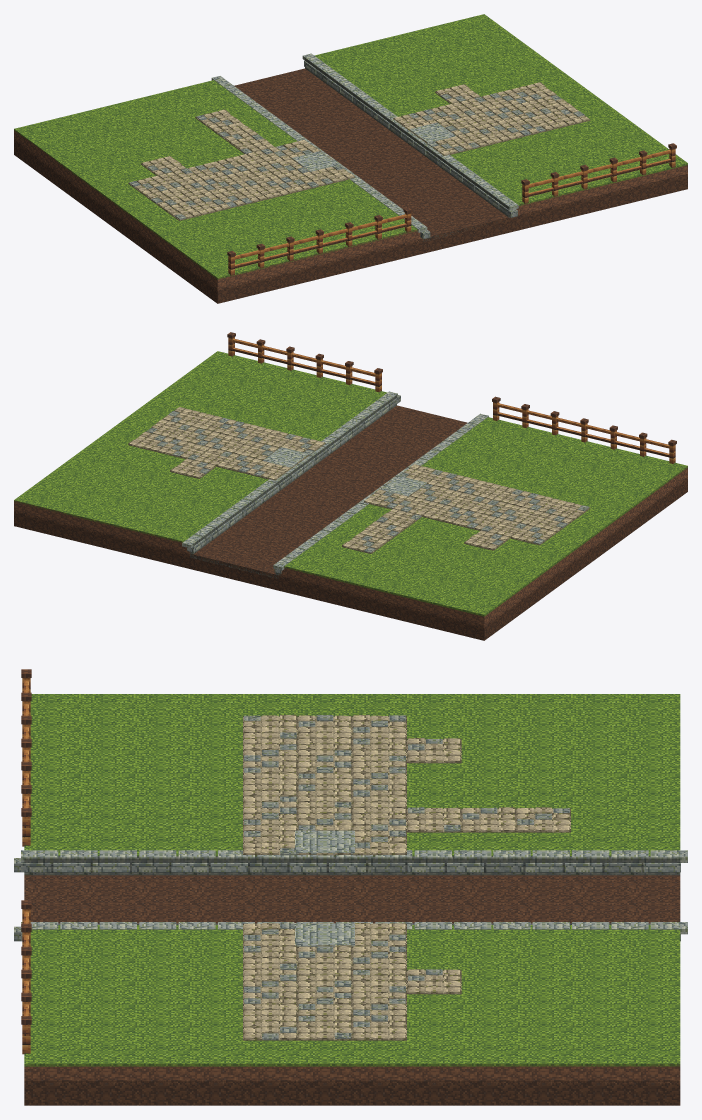
3 renders of one model, top to bottom at view 1: azimuth 30°, elevation 25°; view 2: azimuth 150°, elevation 25°; view 3: azimuth 270°, elevation 25°, orthographic. The views are drawn at different scales.
Parts seen in each view (by area): view 1: grass_geometry, soil_dark_geometry, path_geometry, soil_geometry, stone_light_geometry, stone_geometry, path_light_geometry, oak_geometry, path_dark_geometry, stone_dark_geometry, wood_dark_geometry; view 2: grass_geometry, soil_dark_geometry, path_geometry, soil_geometry, stone_light_geometry, stone_geometry, path_light_geometry, oak_geometry, path_dark_geometry, stone_dark_geometry, wood_dark_geometry; view 3: grass_geometry, soil_dark_geometry, path_geometry, stone_light_geometry, stone_geometry, soil_geometry, path_light_geometry, stone_dark_geometry, path_dark_geometry, oak_geometry, wood_dark_geometry.
Part boxes in pixels (box(x1,y1,x2,y2)): grass_geometry: box(14, 14, 687, 279); soil_dark_geometry: box(14, 68, 687, 303); path_geometry: box(135, 82, 589, 218); soil_geometry: box(14, 130, 687, 290); stone_light_geometry: box(211, 53, 518, 232); stone_geometry: box(129, 69, 584, 239); path_light_geometry: box(140, 84, 583, 214); oak_geometry: box(228, 148, 675, 275); path_dark_geometry: box(128, 84, 590, 220); stone_dark_geometry: box(305, 58, 509, 241); wood_dark_geometry: box(227, 143, 676, 256); grass_geometry: box(14, 351, 687, 616); soil_dark_geometry: box(14, 405, 687, 640); path_geometry: box(128, 407, 584, 551); soil_geometry: box(14, 466, 687, 627); stone_light_geometry: box(182, 391, 488, 573); stone_geometry: box(146, 395, 589, 552); path_light_geometry: box(135, 408, 571, 547); oak_geometry: box(228, 337, 675, 463); path_dark_geometry: box(128, 411, 590, 553); stone_dark_geometry: box(189, 395, 396, 578); wood_dark_geometry: box(227, 332, 676, 445); grass_geometry: box(24, 694, 680, 1066); soil_dark_geometry: box(24, 875, 680, 1105); path_geometry: box(244, 714, 570, 1040); stone_light_geometry: box(21, 830, 687, 946); stone_geometry: box(14, 715, 641, 1040); soil_geometry: box(24, 1064, 680, 1084); path_light_geometry: box(244, 715, 569, 1040); stone_dark_geometry: box(24, 856, 680, 924); path_dark_geometry: box(243, 716, 570, 1040); oak_geometry: box(22, 678, 30, 1054); wood_dark_geometry: box(21, 669, 31, 1024).
Bounding box in the file's own units: 16 × 1.54 × 12.33.
Materials: 11 (11 with a texture image).
